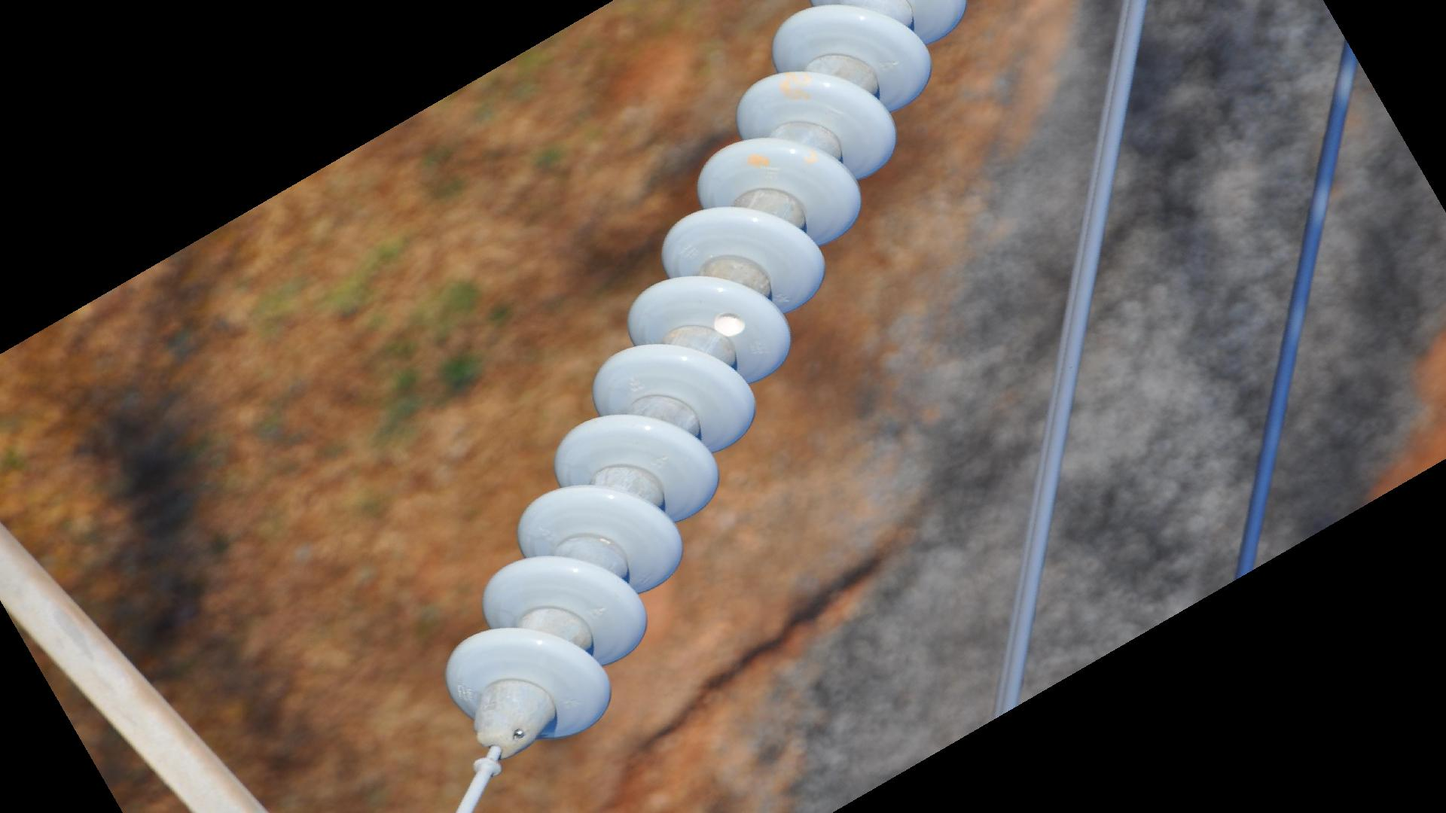insulator: (440, 1, 967, 747)
insulator_breakage: (710, 310, 752, 339)
